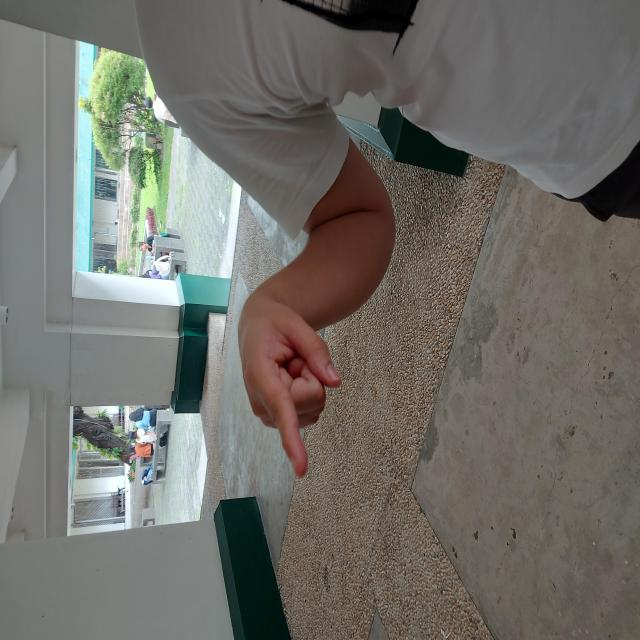Z: (162, 237, 342, 342)
